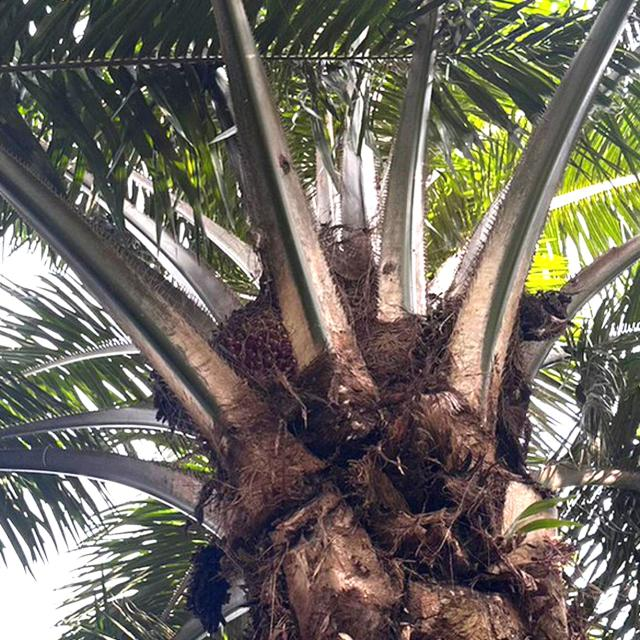ripe: (203, 292, 312, 393)
